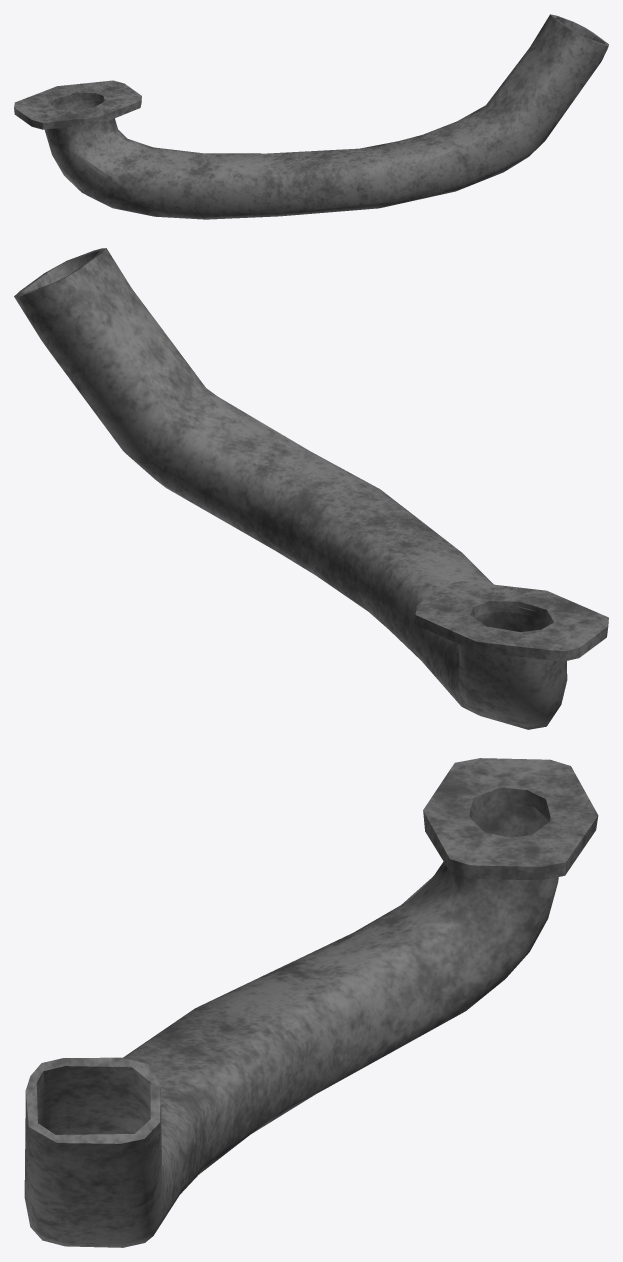
File: turboSmall-exhaust-inlet-tube.fbx
3 views of the same model, one above another, from view 1: azimuth 30°, elevation 25°; view 2: azimuth 150°, elevation 25°; view 3: azimuth 270°, elevation 25° (orthographic). The views are drawn at different scales.
Visible parts, largest first — view 1: turboSmall-exhaust-inlet-tube; view 2: turboSmall-exhaust-inlet-tube; view 3: turboSmall-exhaust-inlet-tube.
Part boxes in pixels (left/top/right/bottom): turboSmall-exhaust-inlet-tube: left=14, top=14, right=608, bottom=219; turboSmall-exhaust-inlet-tube: left=14, top=248, right=608, bottom=729; turboSmall-exhaust-inlet-tube: left=24, top=758, right=598, bottom=1247.
Bounding box in the file's own units: 33.92 × 10.7 × 17.85.
